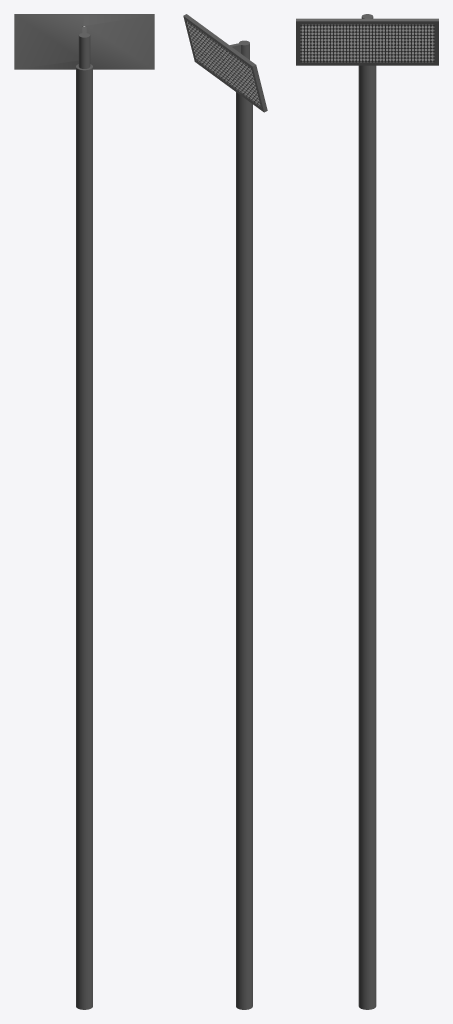
Rendered from LucesPista.fbx.
3 views of the same model, side by side, from view 1: azimuth 90°, elevation 25°; view 2: azimuth 210°, elevation 25°; view 3: azimuth 270°, elevation 25° (orthographic). The views are drawn at different scales.
Parts seen in each view (by area): view 1: Cylinder; view 2: Cylinder; view 3: Cylinder.
Boxes of the visible parts, left/top/right/bottom form: Cylinder: left=14, top=14, right=154, bottom=1009; Cylinder: left=183, top=14, right=267, bottom=1009; Cylinder: left=296, top=14, right=438, bottom=1009.
Bounding box in the file's own units: 0.4567 × 12.52 × 1.62.
Materials: 2 (1 with a texture image).
